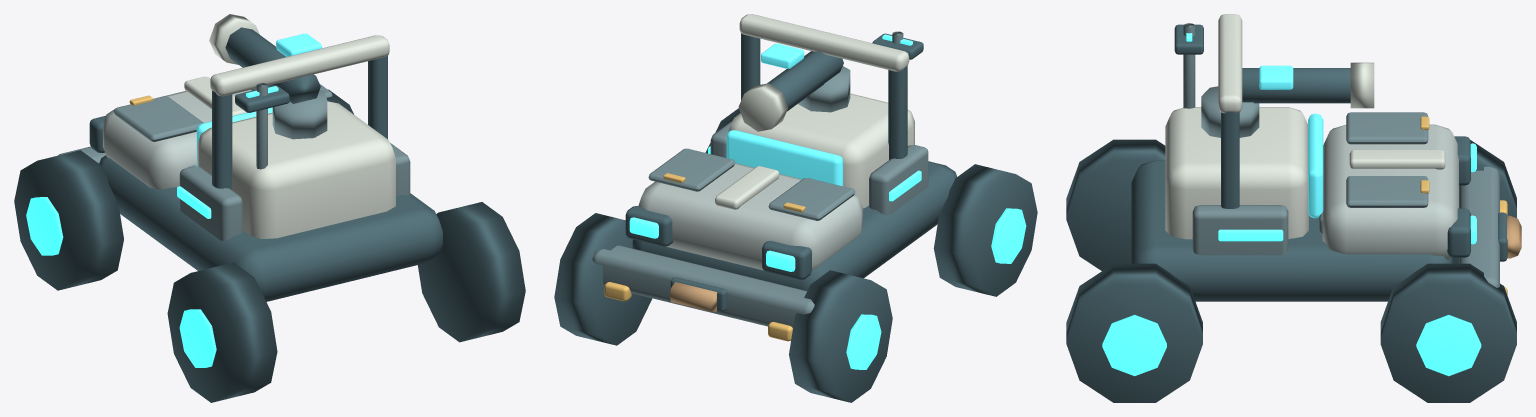
Rendered from recon-buggy.glb.
The picture shows the model from 3 angles, left to right: view 1: azimuth 30°, elevation 25°; view 2: azimuth 150°, elevation 25°; view 3: azimuth 270°, elevation 25°; orthographic projection. The views are drawn at different scales.
Parts seen in each view (by area): view 1: All-terrain tire, Hood center keel, Hood service panel, Forward hood, Wheel hub, Cockpit glass; view 2: All-terrain tire, Hood service panel, Hood center keel, Forward hood, Wheel hub, Cockpit glass, Hood service latch, Winch drum; view 3: All-terrain tire, Hood center keel, Hood service panel, Forward hood, Wheel hub, Cockpit glass, Winch drum.
Part boxes in pixels (left/top/right/bottom): All-terrain tire: left=14, top=27, right=525, bottom=402; Hood center keel: left=184, top=14, right=395, bottom=238; Hood service panel: left=58, top=83, right=410, bottom=240; Forward hood: left=103, top=90, right=251, bottom=189; Wheel hub: left=26, top=86, right=278, bottom=367; Cockpit glass: left=196, top=33, right=322, bottom=166; All-terrain tire: left=554, top=33, right=1037, bottom=402; Hood service panel: left=592, top=31, right=928, bottom=327; Hood center keel: left=715, top=14, right=914, bottom=209; Forward hood: left=638, top=163, right=862, bottom=270; Wheel hub: left=629, top=34, right=1026, bottom=369; Cockpit glass: left=726, top=43, right=843, bottom=186; Hood service latch: left=604, top=173, right=805, bottom=341; Winch drum: left=669, top=282, right=717, bottom=311; All-terrain tire: left=1066, top=24, right=1516, bottom=402; Hood center keel: left=1165, top=14, right=1445, bottom=239; Hood service panel: left=1183, top=23, right=1499, bottom=287; Forward hood: left=1322, top=124, right=1458, bottom=259; Wheel hub: left=1102, top=33, right=1481, bottom=376; Cockpit glass: left=1259, top=65, right=1323, bottom=218; Winch drum: left=1507, top=215, right=1521, bottom=258.
Size of the model in its own units: 1.05 by 0.8902 by 1.33.
